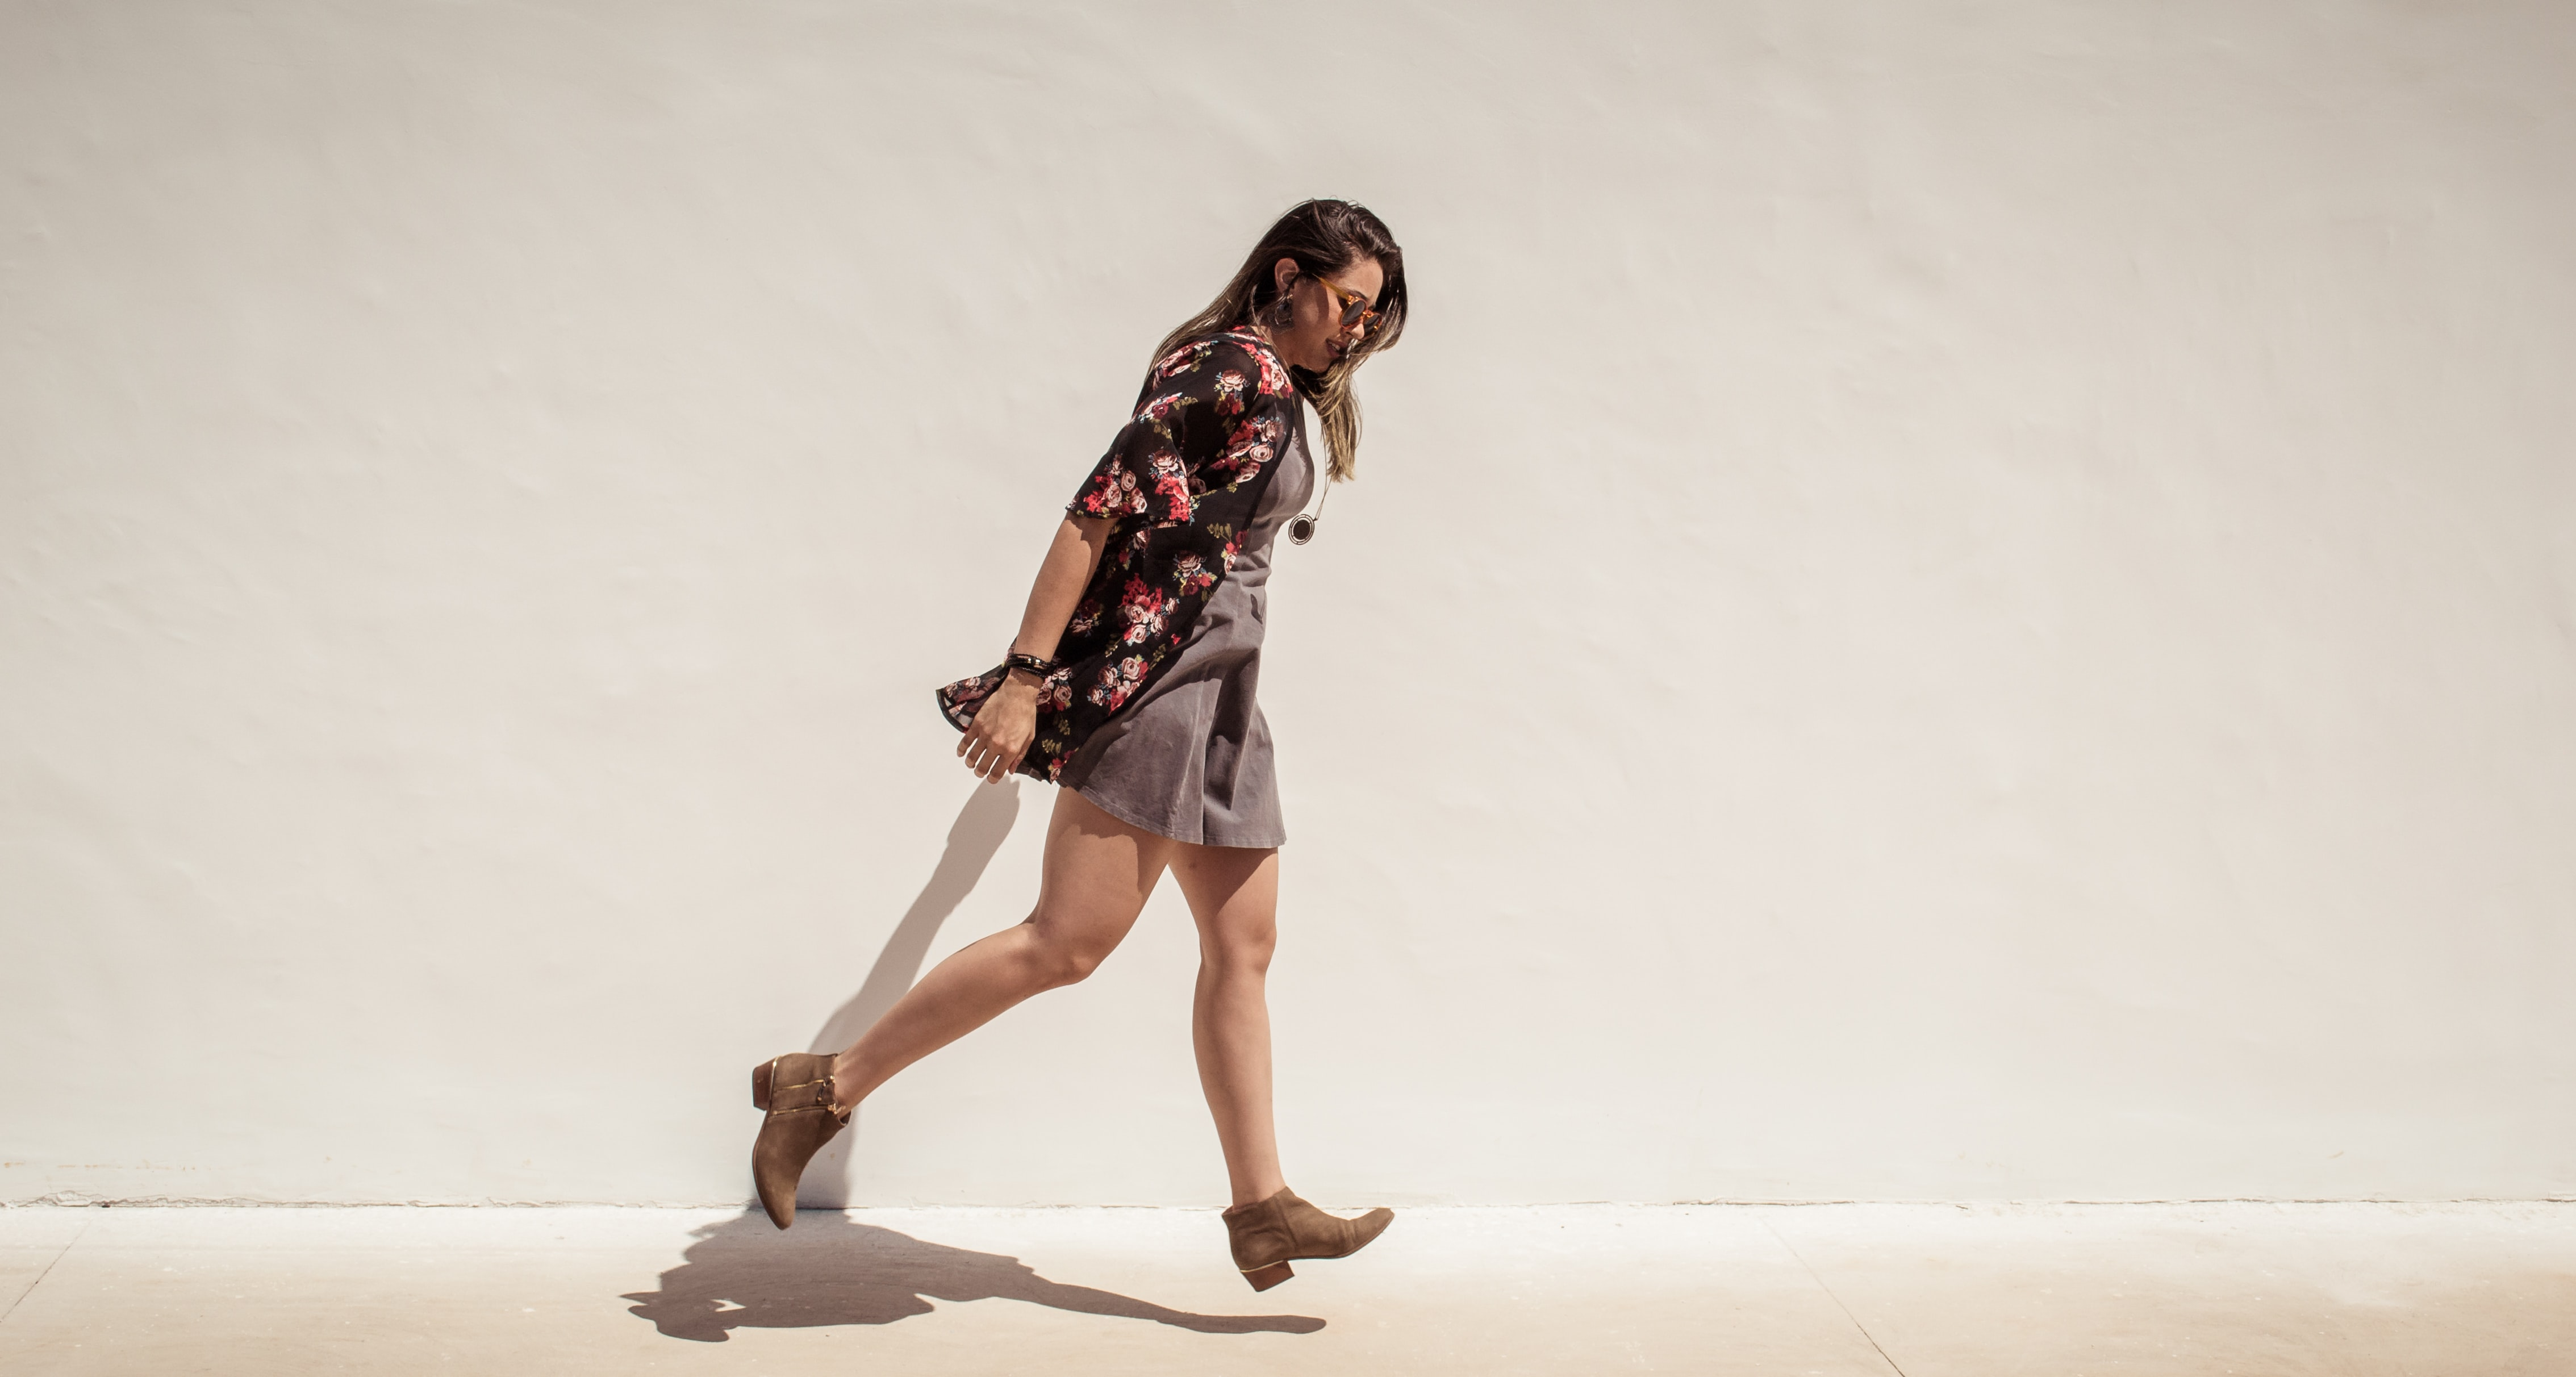person: (759, 194, 1399, 1286)
